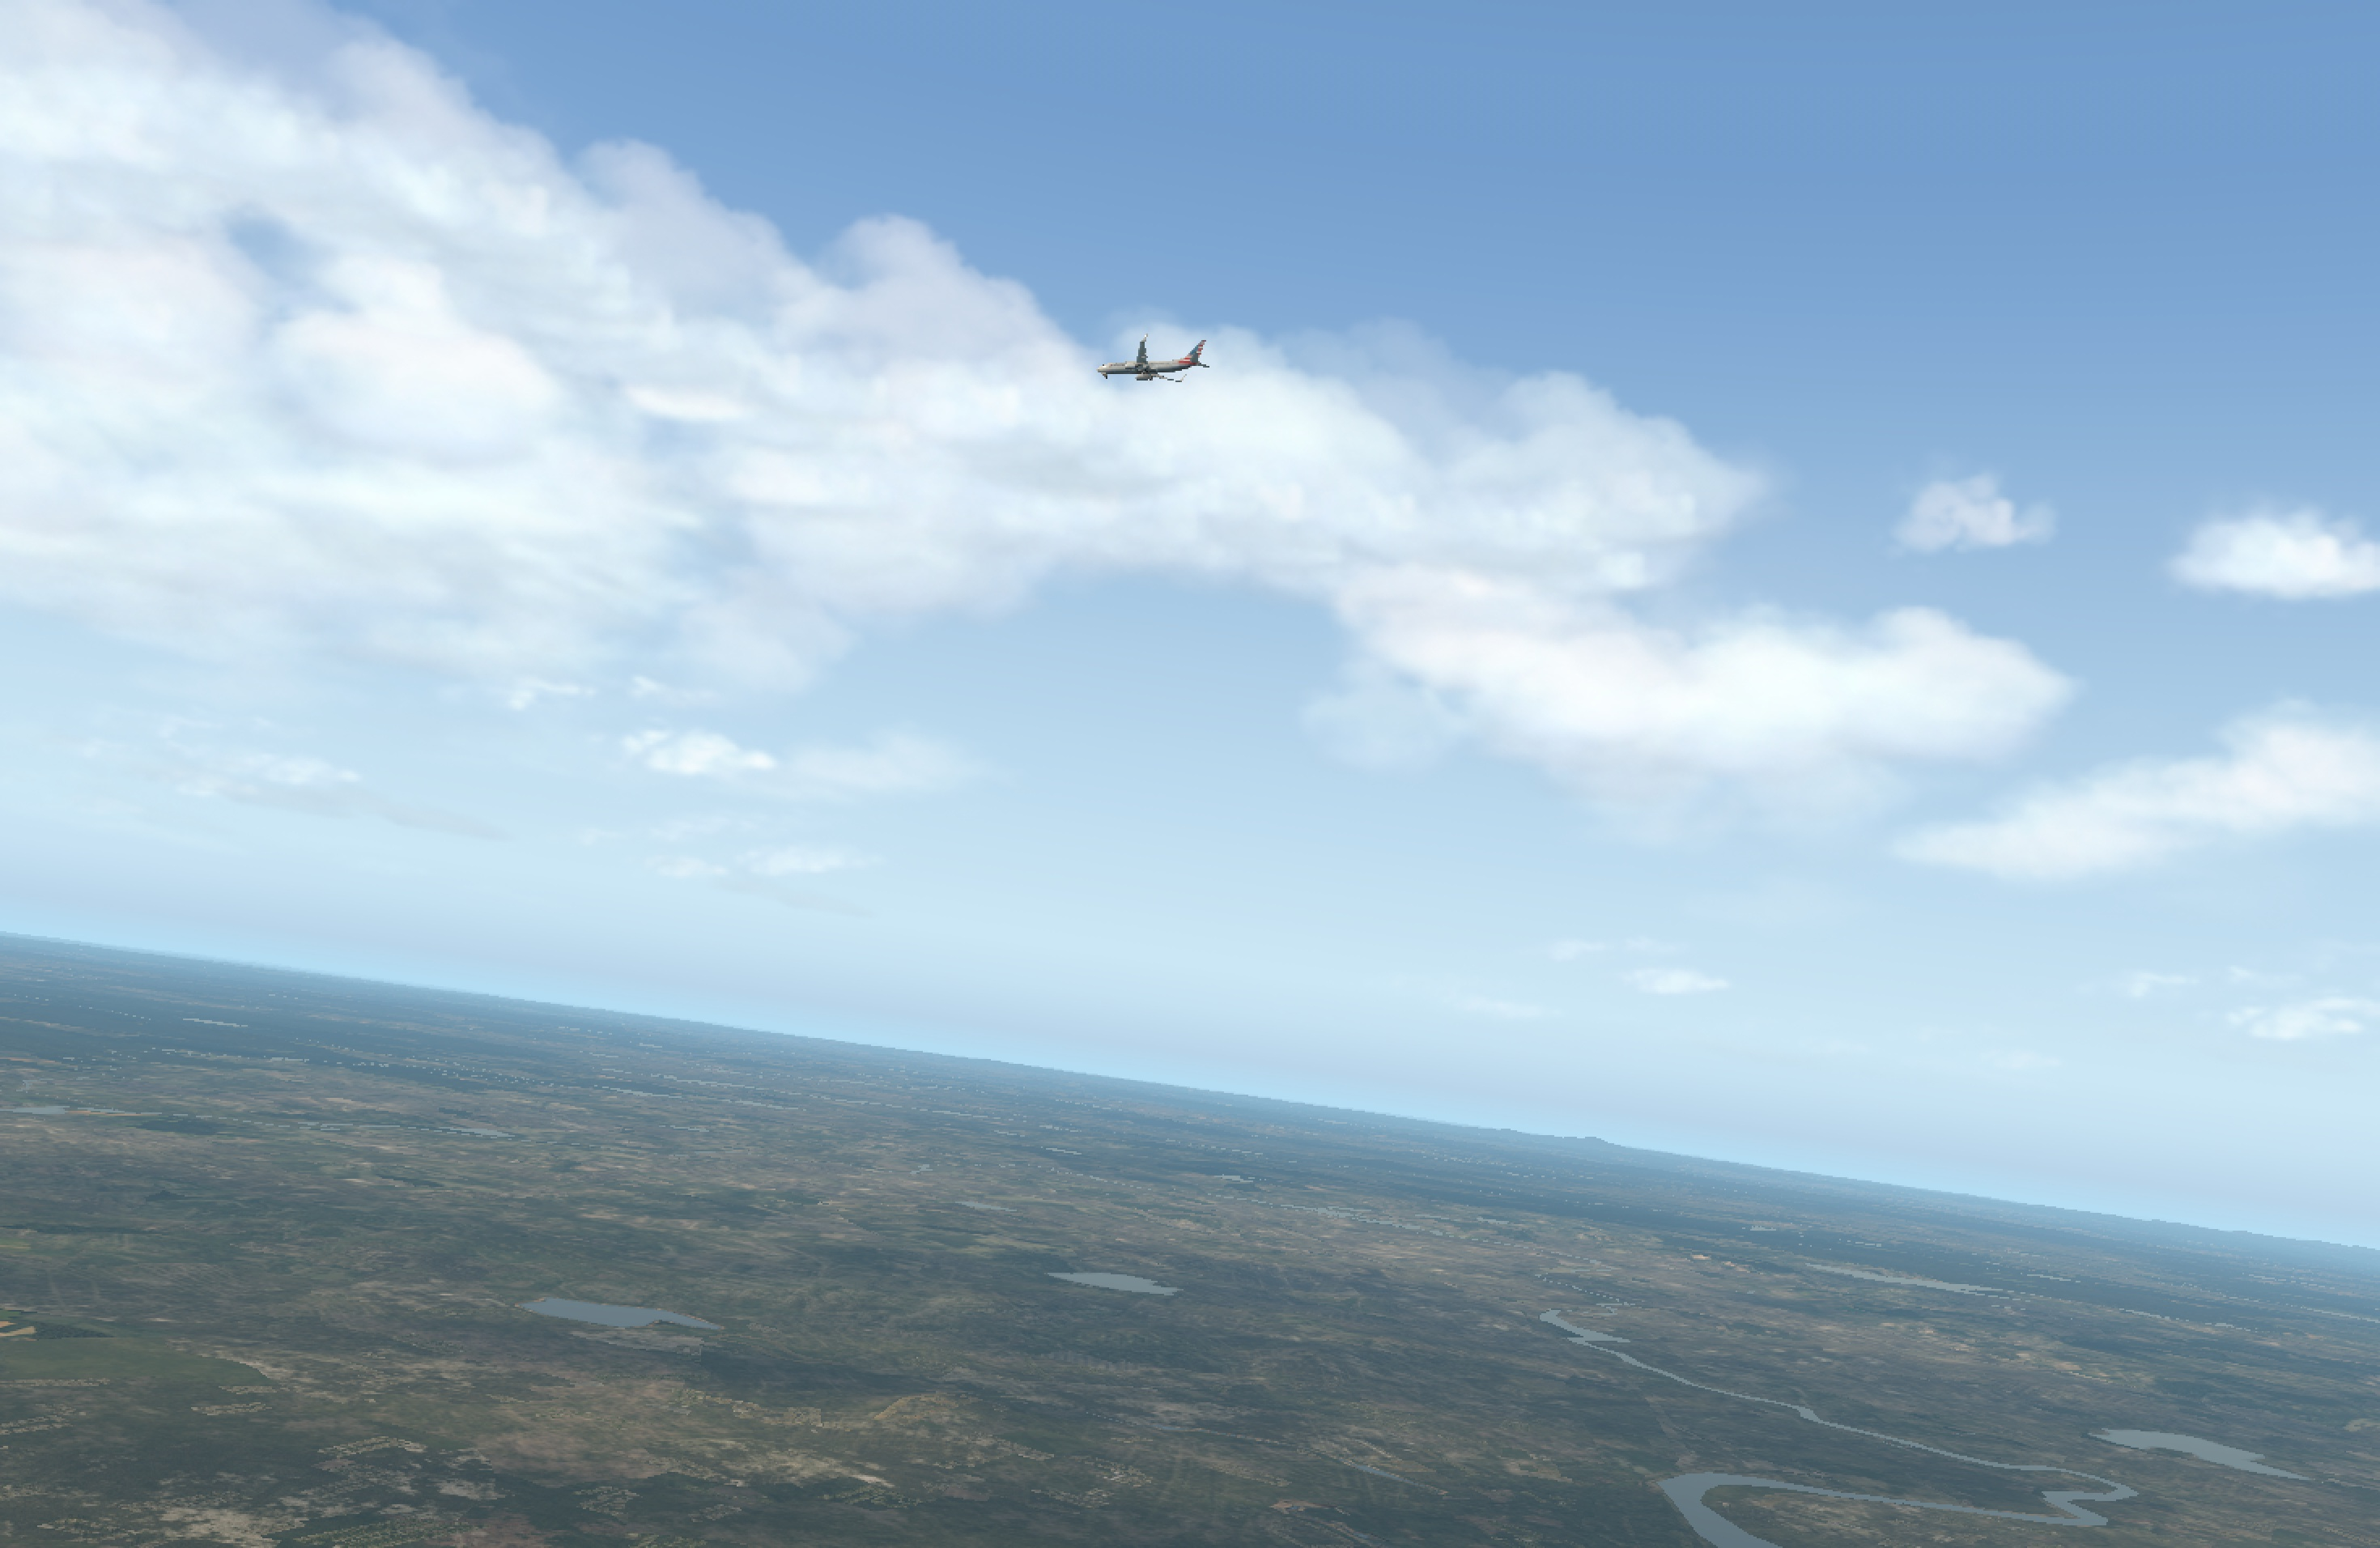aircraft: (1088, 347, 1202, 390)
